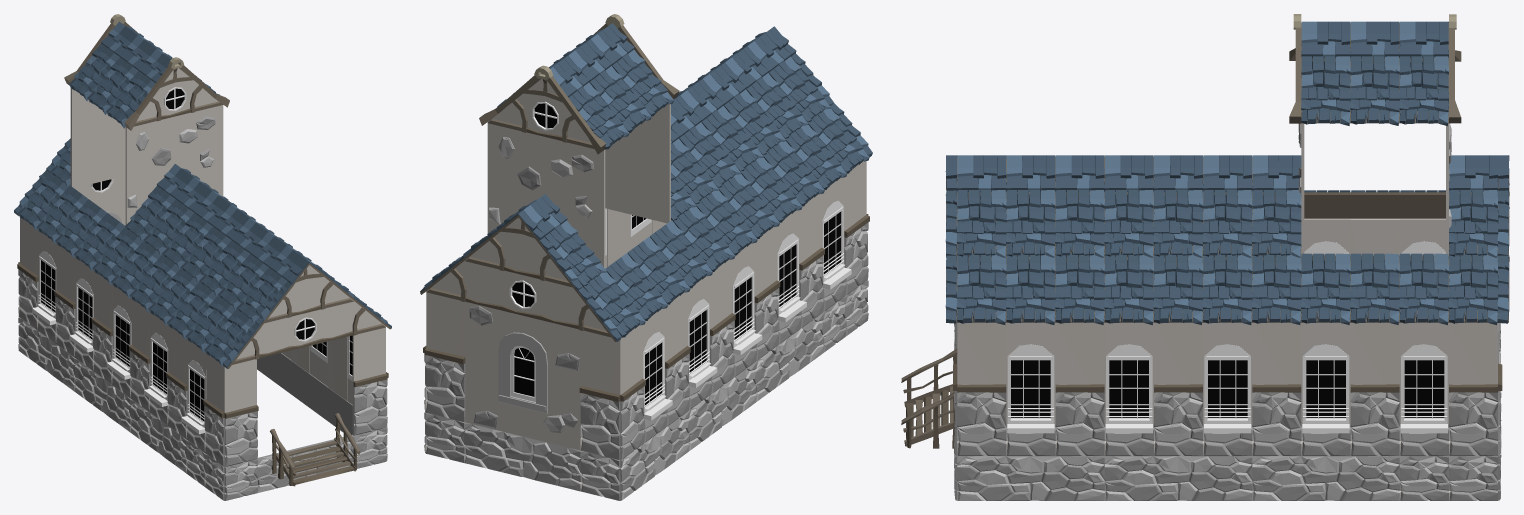
The model's file is HOUSE_8_PARTS.fbx.
3 views of the same model, side by side, from view 1: azimuth 30°, elevation 25°; view 2: azimuth 150°, elevation 25°; view 3: azimuth 270°, elevation 25° (orthographic). The views are drawn at different scales.
Parts seen in each view (by area): view 1: WALL_06_2, WALL_06_3, WALL_04_43, WALL_04_42, STAIRS_01_2, WALL_04_41, WALL_04_39, WINDOW_02_15, WINDOW_02_16, FOUNDATION_01_7, WINDOW_02_12, WALL_04_40 (+63 smaller); view 2: WINDOW_07_3, WALL_06_3, WALL_06_2, FOUNDATION_01_6, WALL_04_35, WALL_04_34, WALL_04_36, FOUNDATION_01_7, WINDOW_02_12, WALL_04_39, WALL_04_40, FOUNDATION_01_9 (+60 smaller); view 3: WINDOW_02_21, WINDOW_02_18, WINDOW_02_20, WINDOW_02_19, WINDOW_02_17, FOUNDATION_01_4, WALL_04_48, WALL_04_47, WALL_04_45, FOUNDATION_01_5, FOUNDATION_01_3, WALL_04_46 (+50 smaller).
Part boxes in pixels (x1,y1,x2,y2): WALL_06_2: (125, 105, 223, 224); WALL_06_3: (70, 88, 125, 188); WALL_04_43: (352, 328, 387, 435); WALL_04_42: (223, 359, 258, 466); STAIRS_01_2: (270, 413, 360, 486); WALL_04_41: (203, 354, 226, 466); WALL_04_39: (129, 300, 150, 411); WINDOW_02_15: (69, 258, 94, 370); WINDOW_02_16: (32, 231, 57, 343); FOUNDATION_01_7: (18, 317, 76, 391); WINDOW_02_12: (181, 340, 206, 452); WALL_04_40: (166, 327, 187, 438); WINDOW_07_3: (465, 301, 581, 450); WALL_06_3: (487, 122, 605, 268); WALL_06_2: (605, 104, 670, 223); FOUNDATION_01_6: (464, 422, 581, 491); WALL_04_35: (579, 330, 621, 460); WALL_04_34: (424, 293, 465, 422); WALL_04_36: (618, 325, 645, 460); FOUNDATION_01_7: (617, 411, 689, 500); WINDOW_02_12: (821, 177, 851, 311); WALL_04_39: (754, 226, 780, 361); WALL_04_40: (799, 194, 824, 328); FOUNDATION_01_9: (755, 313, 823, 401); WINDOW_02_21: (1006, 322, 1055, 456); WINDOW_02_18: (1301, 322, 1350, 456); WINDOW_02_20: (1104, 322, 1153, 456); WINDOW_02_19: (1203, 322, 1252, 456); WINDOW_02_17: (1399, 322, 1448, 456); FOUNDATION_01_4: (1104, 455, 1252, 500); WALL_04_48: (1350, 322, 1399, 456); WALL_04_47: (1252, 322, 1301, 456); WALL_04_45: (1055, 322, 1104, 456); FOUNDATION_01_5: (1252, 455, 1399, 500); FOUNDATION_01_3: (957, 455, 1104, 500); WALL_04_46: (1154, 322, 1202, 456).
Bounding box in the file's own units: 541 × 973 × 1237.
